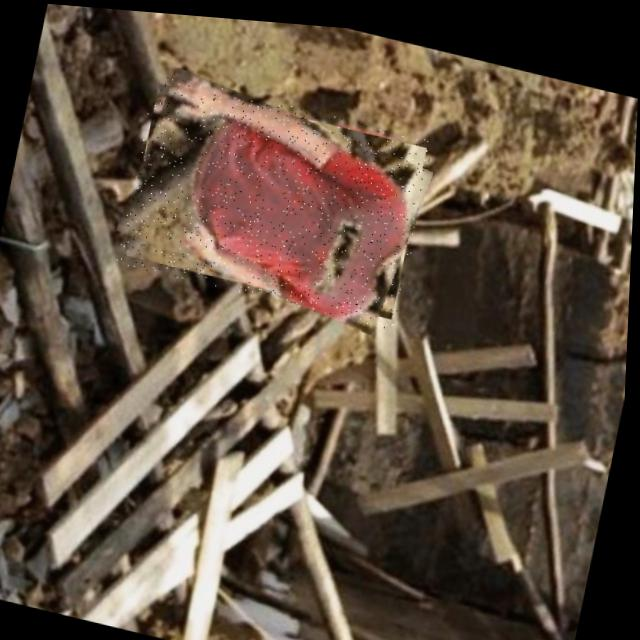Person in Rubble: (116, 68, 436, 326)
